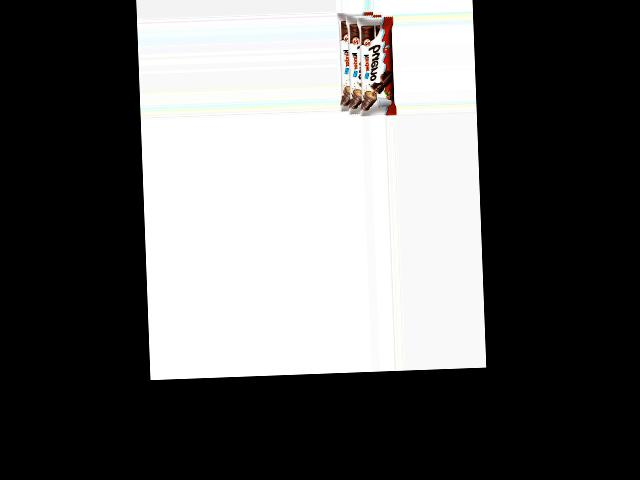chocolate: (336, 11, 397, 114)
